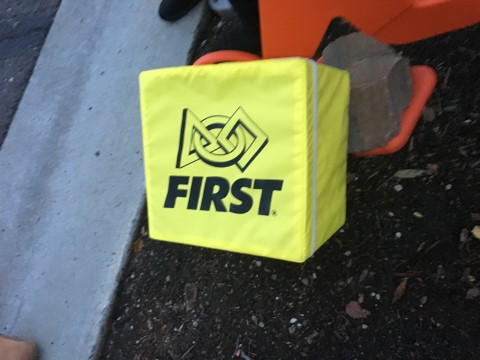cube: (139, 57, 350, 264)
